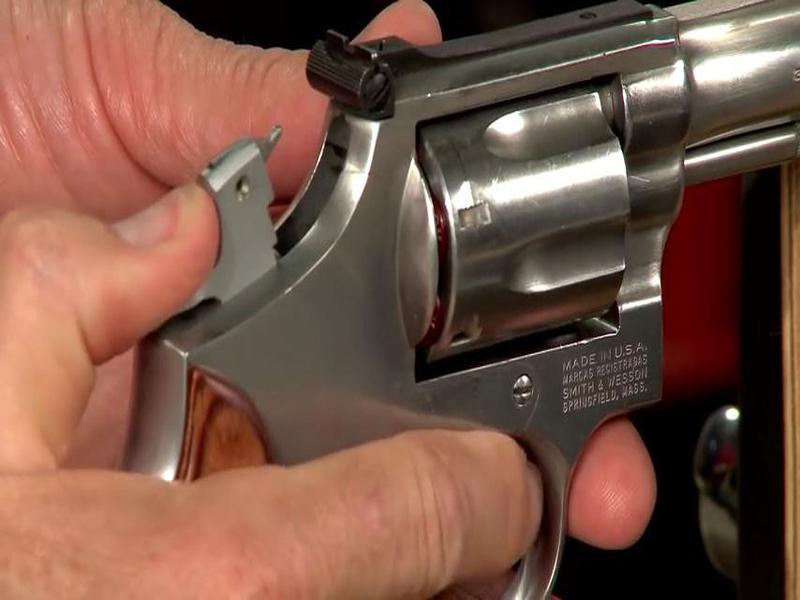Revolver: (155, 1, 786, 527)
